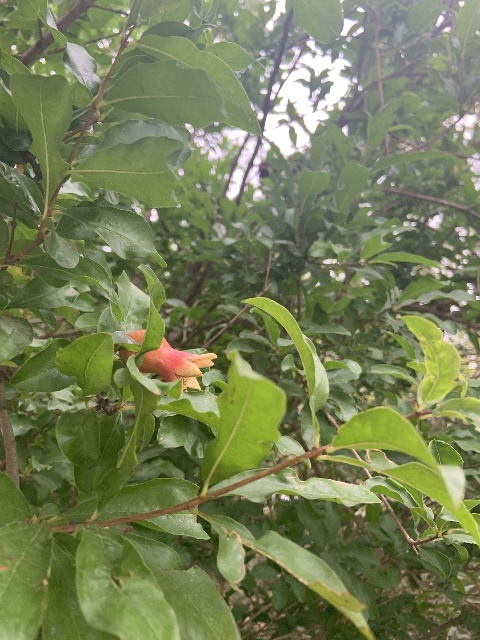flower: (121, 328, 216, 393)
